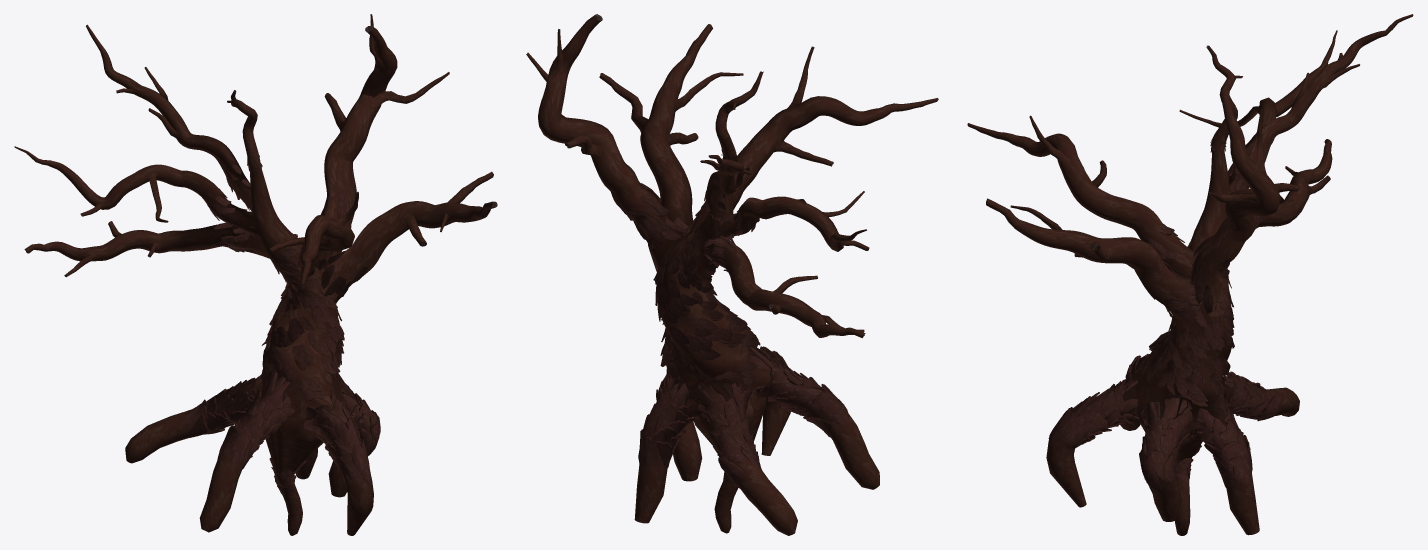
The picture shows the model from 3 angles, left to right: view 1: azimuth 30°, elevation 25°; view 2: azimuth 150°, elevation 25°; view 3: azimuth 270°, elevation 25°; orthographic projection. The views are drawn at different scales.
Visible parts, largest first — view 1: SM_GF_SwampTree_01_LOD0; view 2: SM_GF_SwampTree_01_LOD0; view 3: SM_GF_SwampTree_01_LOD0.
Boxes of the visible parts, x1,y1,x2,y2 form: SM_GF_SwampTree_01_LOD0: [14, 14, 497, 535]; SM_GF_SwampTree_01_LOD0: [526, 14, 938, 535]; SM_GF_SwampTree_01_LOD0: [967, 14, 1413, 535].
Bounding box in the file's own units: 18.31 × 21.93 × 18.07.
1 material, 1 textured.
